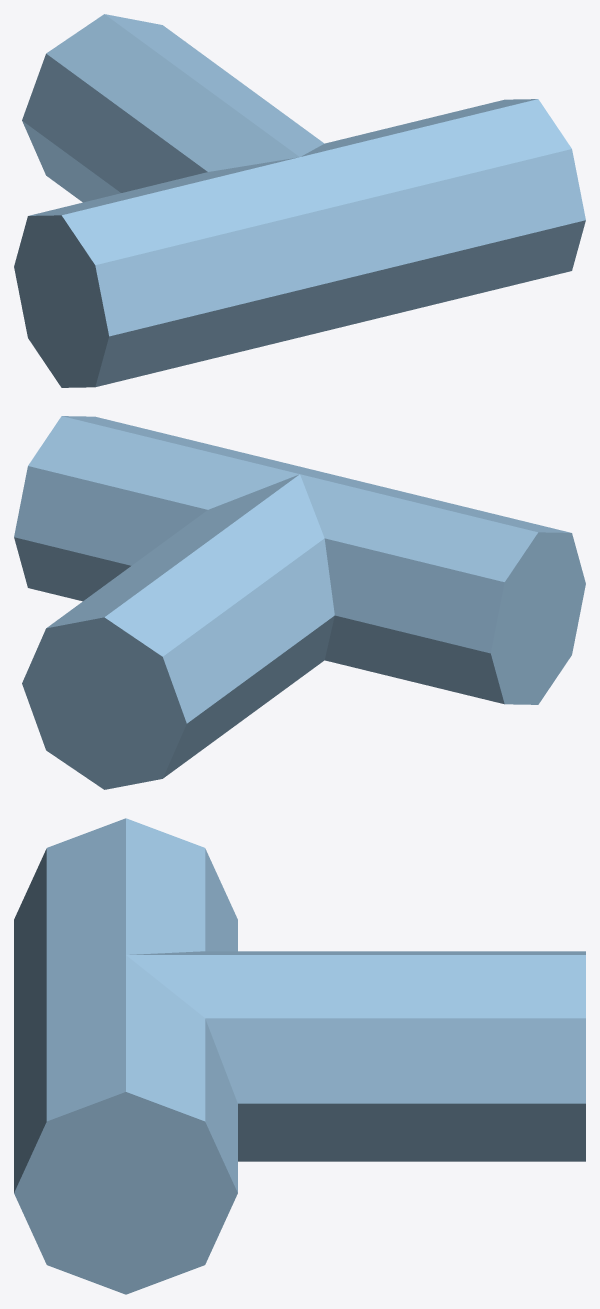
The model's file is trumpet1_2.fbx.
3 views of the same model, one above another, from view 1: azimuth 30°, elevation 25°; view 2: azimuth 150°, elevation 25°; view 3: azimuth 270°, elevation 25° (orthographic). The views are drawn at different scales.
Parts seen in each view (by area): view 1: Cylinder_17; view 2: Cylinder_17; view 3: Cylinder_17.
Part boxes in pixels (x1,y1,x2,y2): Cylinder_17: [14, 14, 585, 387]; Cylinder_17: [14, 416, 585, 789]; Cylinder_17: [14, 818, 585, 1294].
Size of the model in its own units: 87.6 by 30.3 by 77.39.
